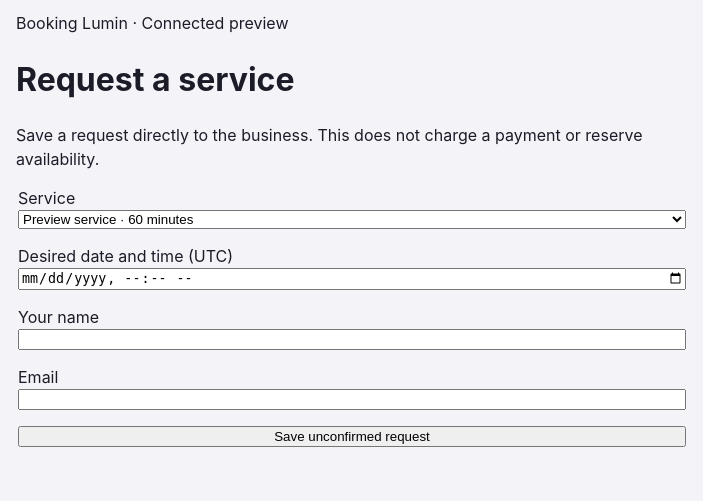
persists a real-mode draft with stable retry identity and reports unconfirmed without charging
Type "2030-01-01T12:00" into the field labelled "Desired date and time (UTC)".
click(352, 279); type("2030-01-01T12:00")  # box x1=18 y1=268 x2=686 y2=290
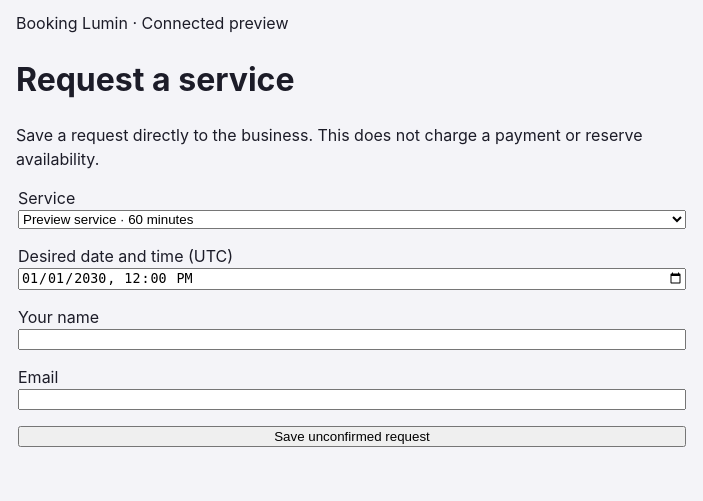
Type "Synthetic Example" into the field labelled "Your name".
click(352, 339); type("Synthetic Example")  # box x1=18 y1=329 x2=686 y2=350
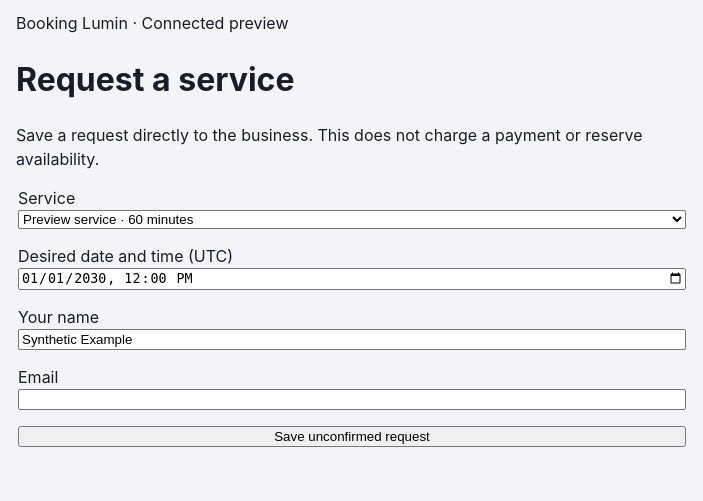
Type "synthetic@example.test" into the field labelled "Email".
click(352, 399); type("synthetic@example.test")  # box x1=18 y1=389 x2=686 y2=410
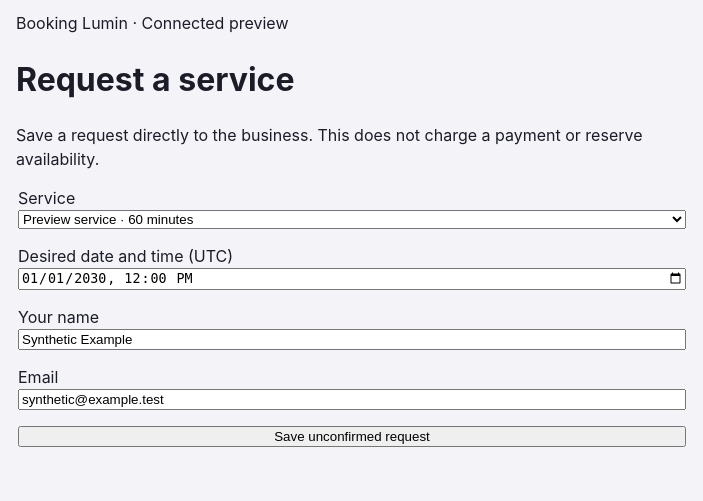
Click the button "Save unconfirmed request".
click(352, 436)  # box x1=18 y1=426 x2=686 y2=447
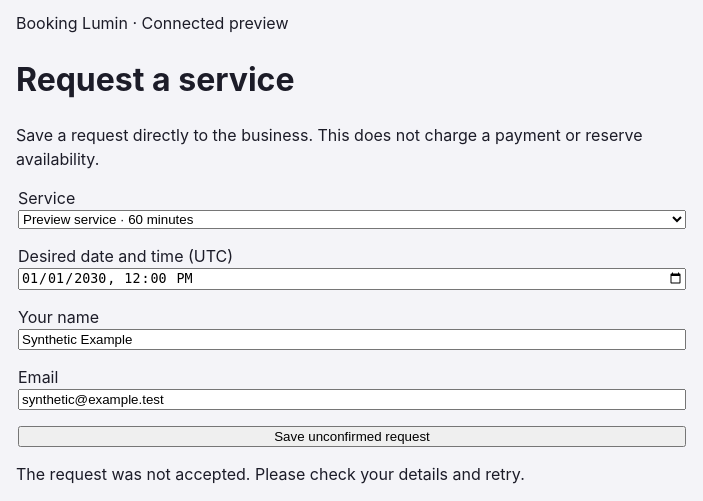
Now the message "The request was not accepted. Please check your details and retry." is shown, box x1=16 y1=464 x2=525 y2=484
Click the button "Save unconfirmed request".
click(352, 436)  # box x1=18 y1=426 x2=686 y2=447
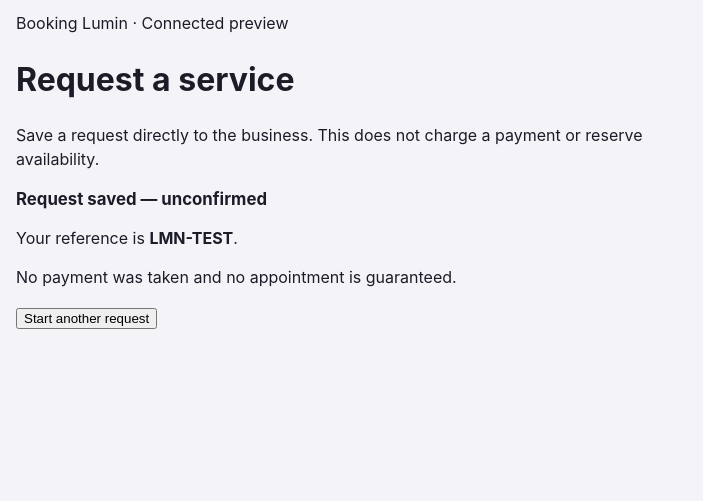
Now the heading "Request saved — unconfirmed" is shown, box x1=16 y1=189 x2=267 y2=209
Now the text "LMN-TEST" is shown, box x1=149 y1=228 x2=233 y2=248
